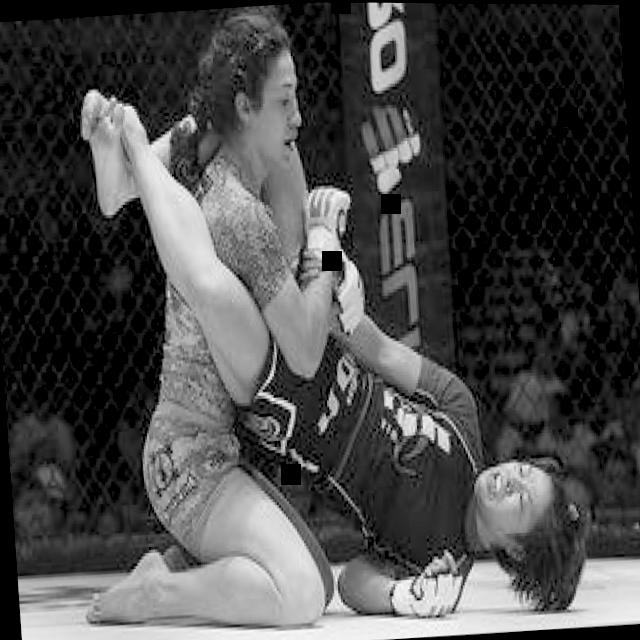Fall-Detected: (43, 0, 609, 640)
